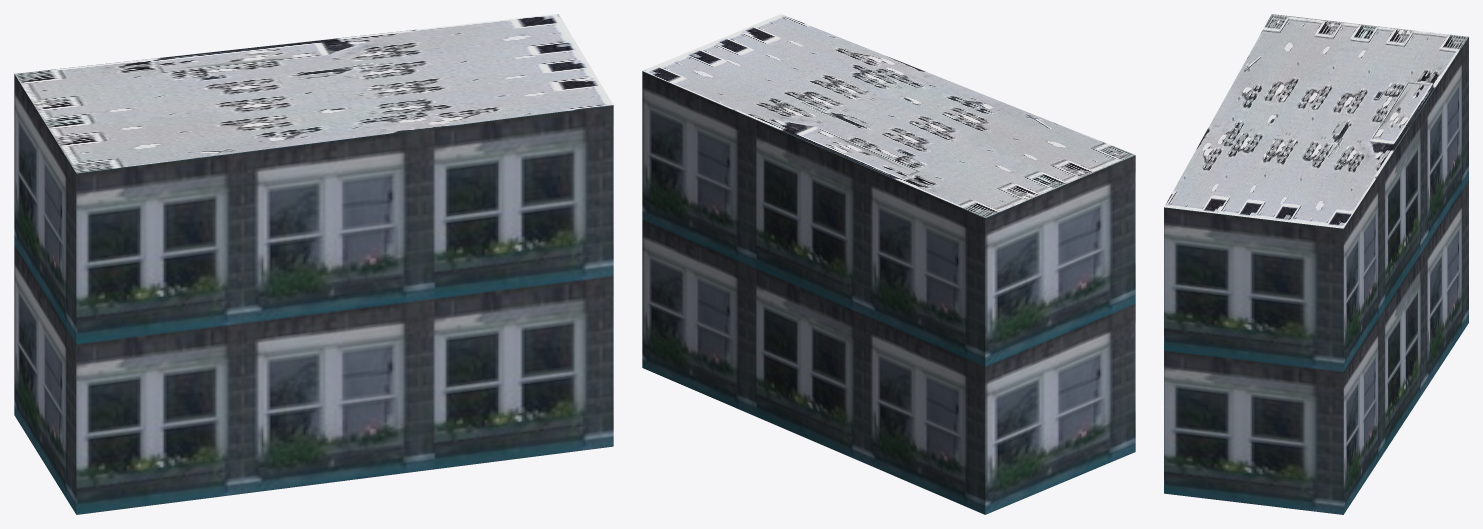
The model's file is ResTex__530.fbx.
3 renders of one model, left to right at view 1: azimuth 30°, elevation 25°; view 2: azimuth 150°, elevation 25°; view 3: azimuth 270°, elevation 25°, orthographic. The views are drawn at different scales.
Parts seen in each view (by area): view 1: CityEngineMaterial_11_m, CityEngineMaterial_2_m; view 2: CityEngineMaterial_11_m, CityEngineMaterial_2_m; view 3: CityEngineMaterial_11_m, CityEngineMaterial_2_m.
Part boxes in pixels (x1,y1,x2,y2): CityEngineMaterial_11_m: (14, 74, 613, 514); CityEngineMaterial_2_m: (14, 14, 613, 173); CityEngineMaterial_11_m: (642, 71, 1135, 514); CityEngineMaterial_2_m: (643, 14, 1135, 217); CityEngineMaterial_11_m: (1164, 37, 1468, 514); CityEngineMaterial_2_m: (1164, 14, 1468, 228).
Size of the model in its own units: 9.65 by 6 by 5.79.
2 materials, 2 textured.
